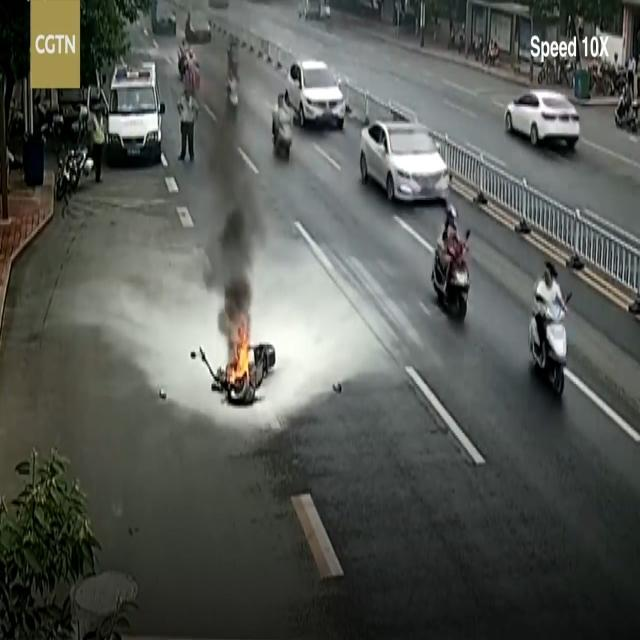Fire: (226, 322, 251, 385)
Smoke: (205, 118, 266, 342)
